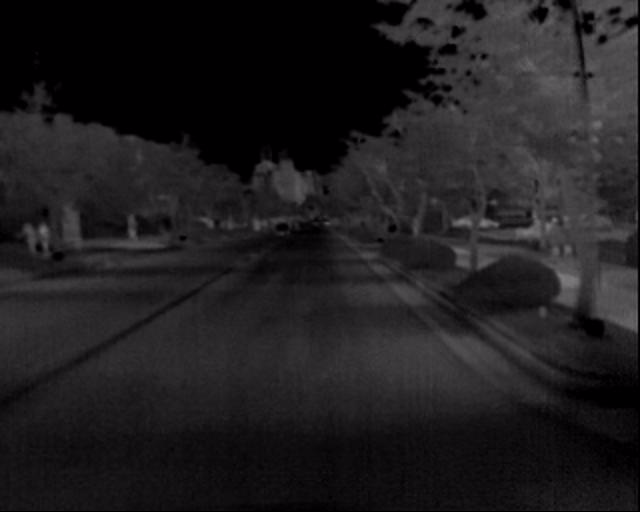person: (9, 219, 56, 269), (545, 211, 584, 268)
